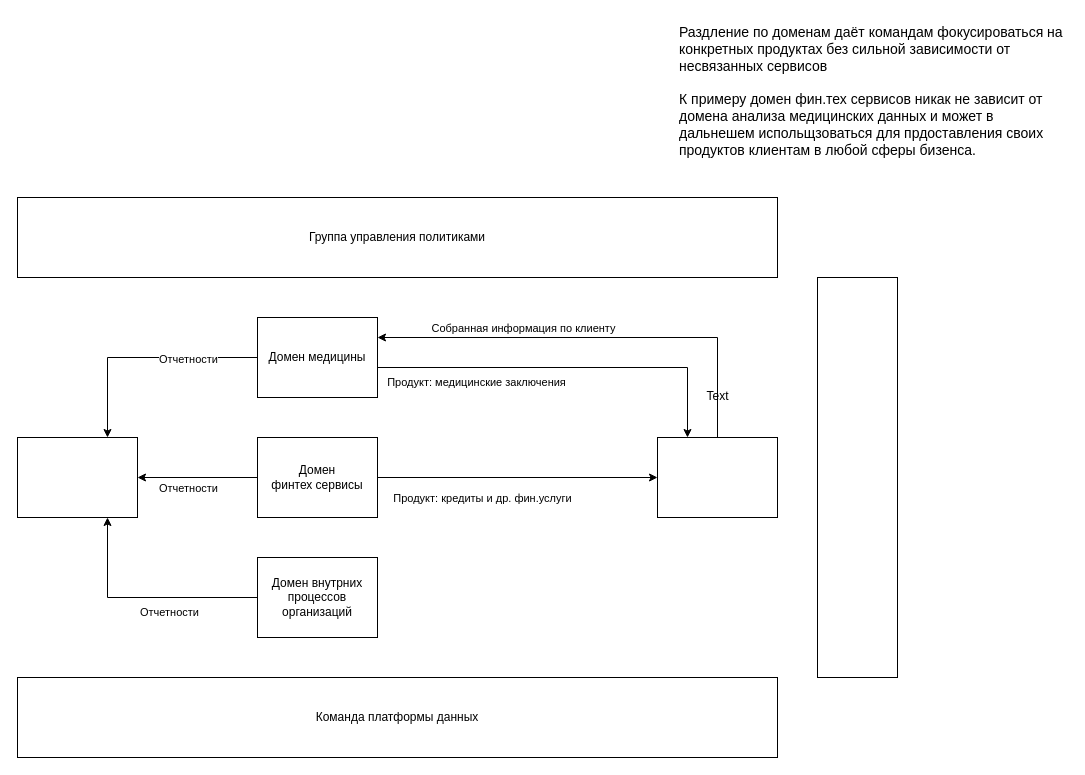
Some shapes in this 1085 by 775 pixel diagram are drawn without their labels. Here are the shapes that lost their labels. From the top down, the centre of each, then its label:
At [77,477]: "Управляющие бизнесом".
At [717,477]: "Домен взимодействия клиентом".
At [857,477]: "Команда обеспечения".
